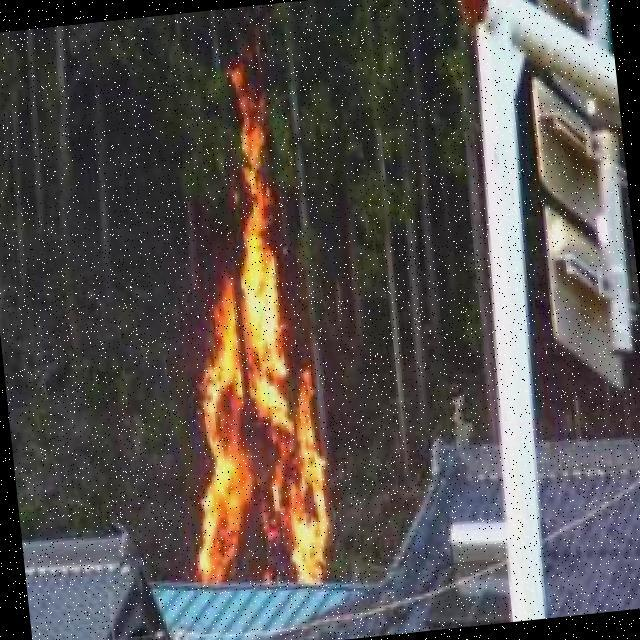Fire: (147, 85, 347, 601)
